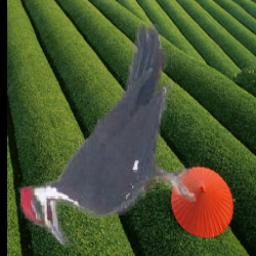Woodpecker: (16, 25, 198, 246)
